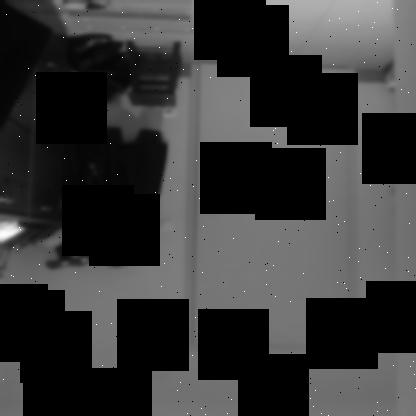Porte: (186, 59, 359, 355)
